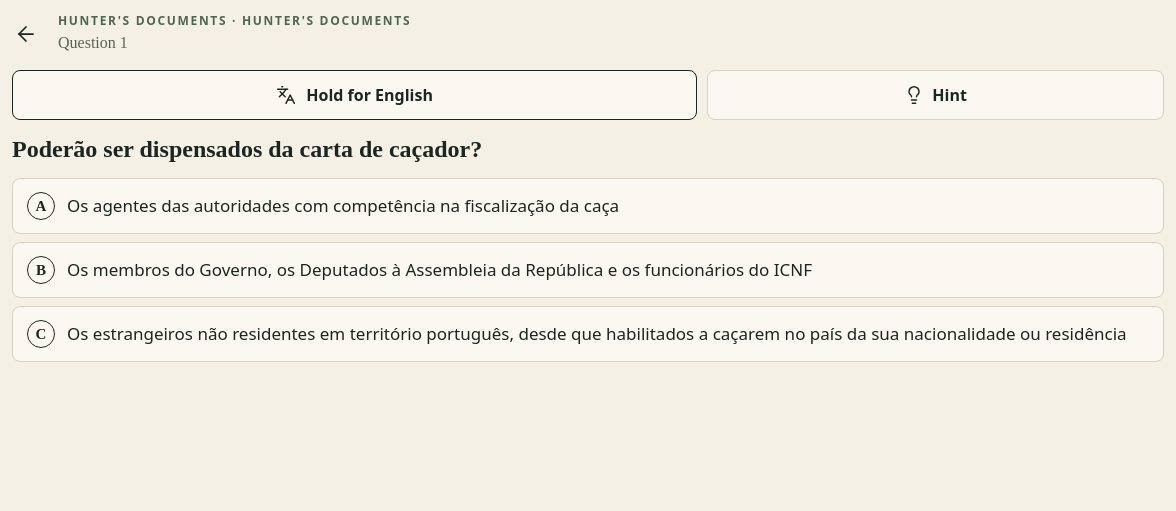
it: PracticePage › records a right answer as right
Click the 5th button.
click(588, 334)  # box [12,306,1164,362]
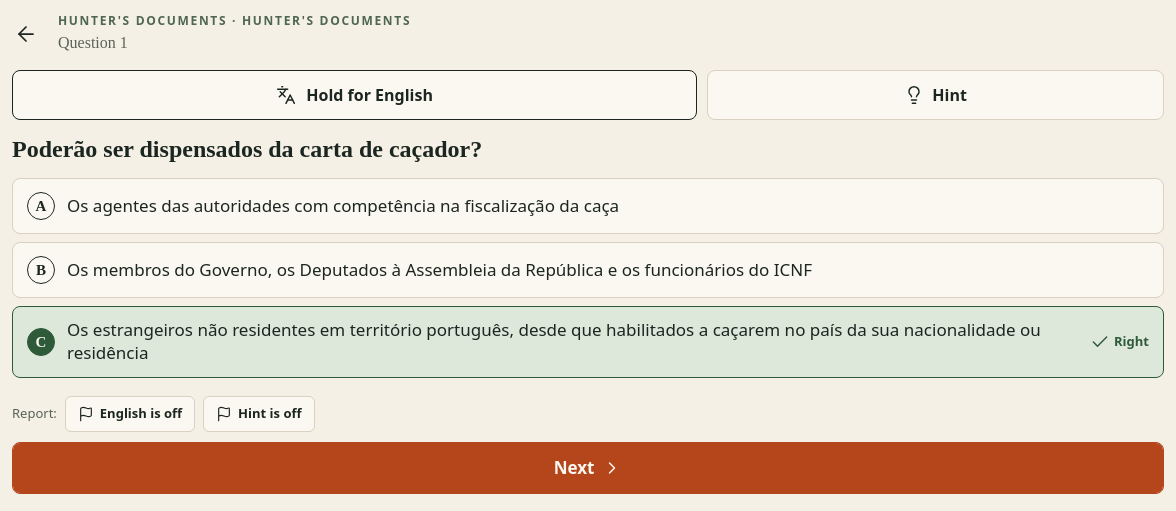
Expected: the text "Right" is shown, [1090,332,1149,352]
